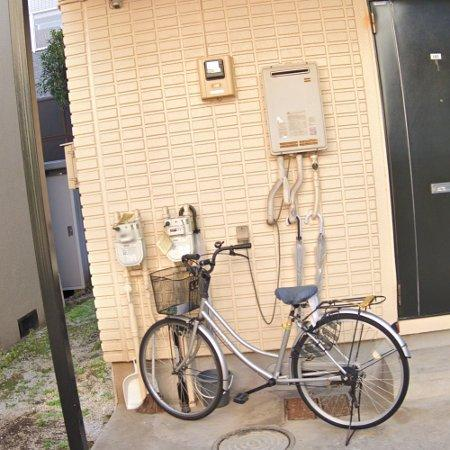bicycles: (140, 242, 410, 430)
